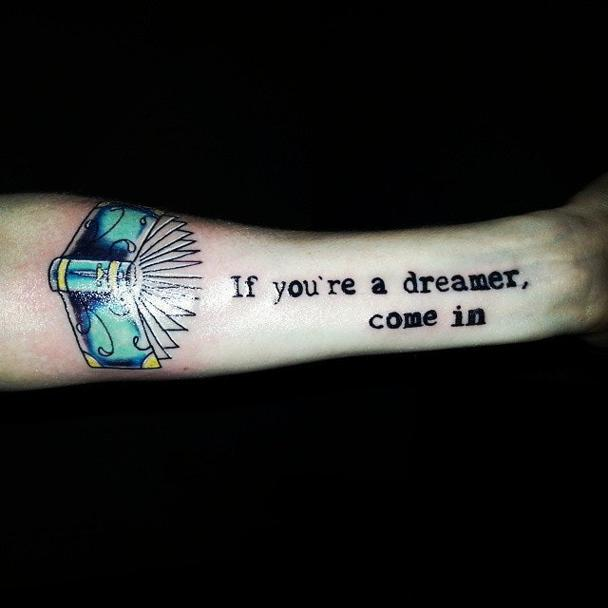tattoos: (47, 197, 204, 373), (228, 269, 530, 331)
